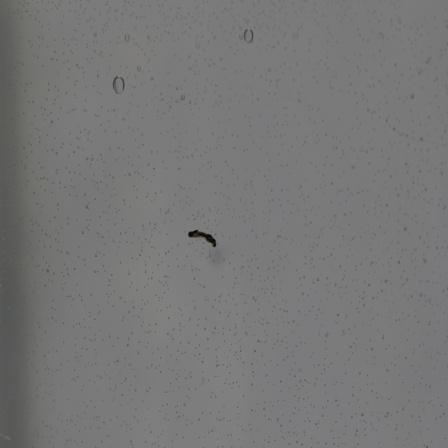Jentik-Nyamuk: (184, 223, 226, 255)
